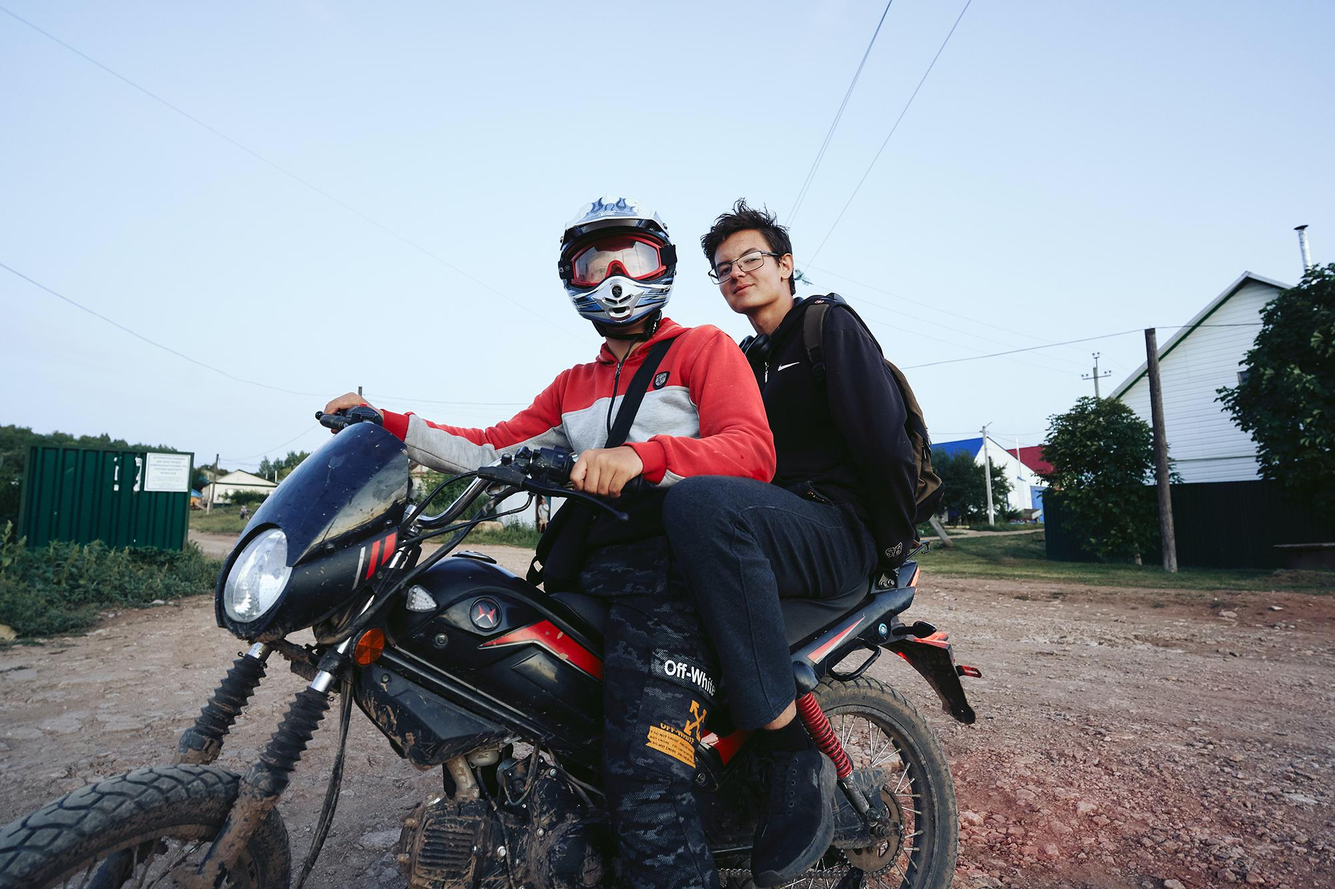helmet: (557, 191, 679, 343)
nohelmet: (699, 195, 797, 318)
